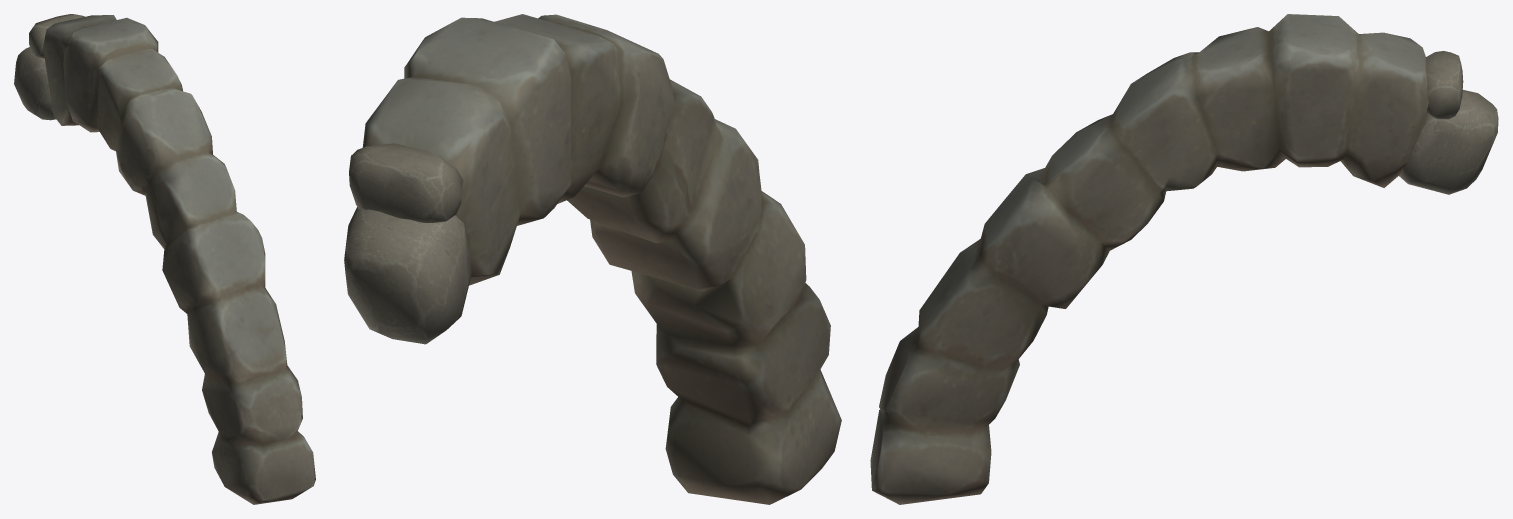
Rendered from SM_FW01_Ruins_Int_Ceiling_6x6_Arch_02.fbx.
3 views of the same model, side by side, from view 1: azimuth 30°, elevation 25°; view 2: azimuth 150°, elevation 25°; view 3: azimuth 270°, elevation 25° (orthographic). The views are drawn at different scales.
Parts seen in each view (by area): view 1: SM_FW01_Ruins_Int_Ceiling_6x6_Arch_02_LOD0; view 2: SM_FW01_Ruins_Int_Ceiling_6x6_Arch_02_LOD0; view 3: SM_FW01_Ruins_Int_Ceiling_6x6_Arch_02_LOD0.
Part boxes in pixels (bbox=[...]): SM_FW01_Ruins_Int_Ceiling_6x6_Arch_02_LOD0: bbox=[14, 14, 315, 504]; SM_FW01_Ruins_Int_Ceiling_6x6_Arch_02_LOD0: bbox=[344, 14, 841, 504]; SM_FW01_Ruins_Int_Ceiling_6x6_Arch_02_LOD0: bbox=[870, 14, 1498, 504].
Size of what is drawn, in the model's own units: 0.767 by 3.44 by 4.3.
